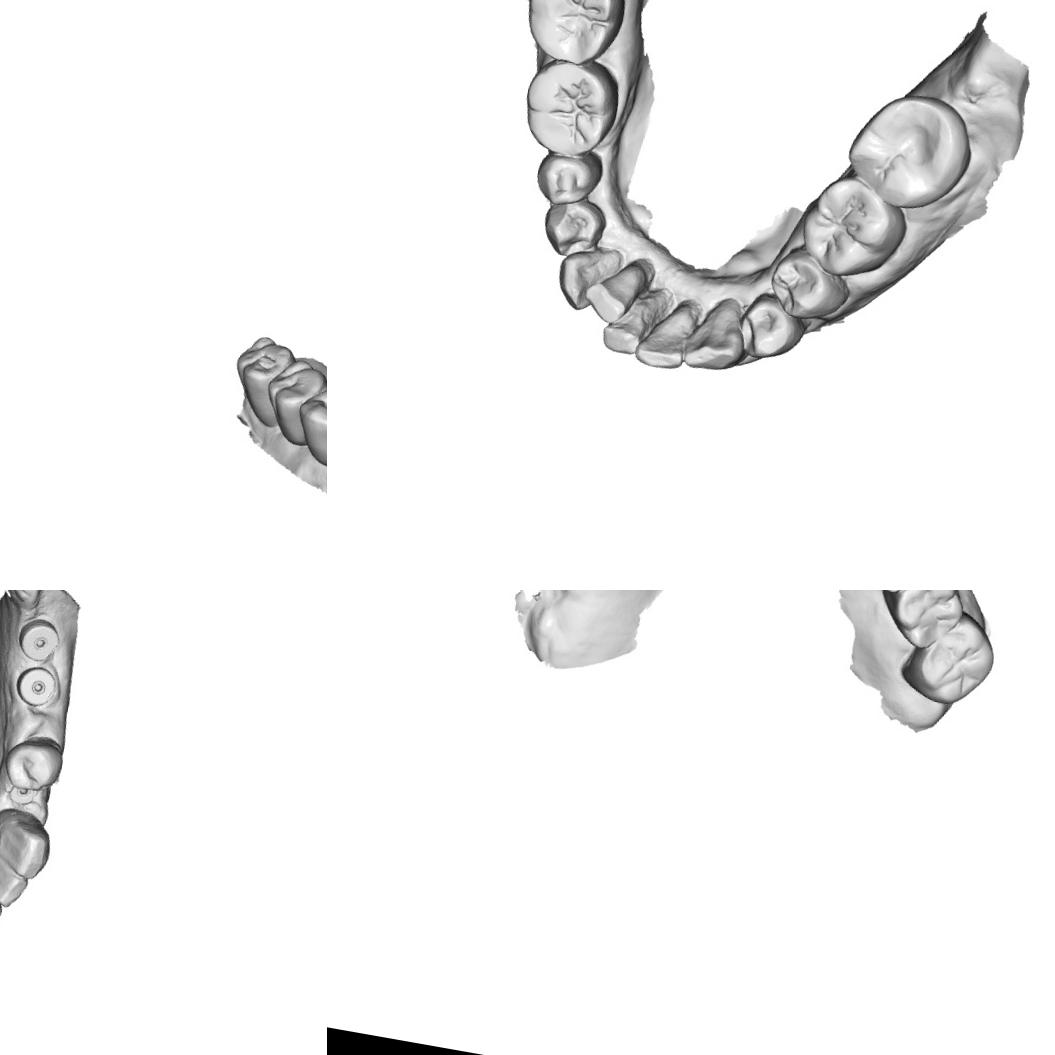canine: (678, 291, 751, 376), (551, 243, 622, 315), (0, 815, 54, 882)
implant: (13, 614, 62, 664), (12, 662, 60, 710), (7, 785, 36, 807)
incisor: (579, 254, 649, 330), (630, 297, 695, 372), (594, 292, 650, 358), (0, 862, 30, 910)
molar: (837, 83, 982, 220), (792, 167, 914, 286), (515, 52, 623, 164), (517, 0, 633, 71), (224, 330, 296, 430), (257, 349, 327, 451), (921, 618, 1000, 702), (888, 590, 965, 648)
premolar: (762, 250, 852, 328), (730, 286, 807, 368), (528, 141, 608, 213), (536, 191, 610, 262), (1, 731, 65, 793), (288, 376, 327, 472)
